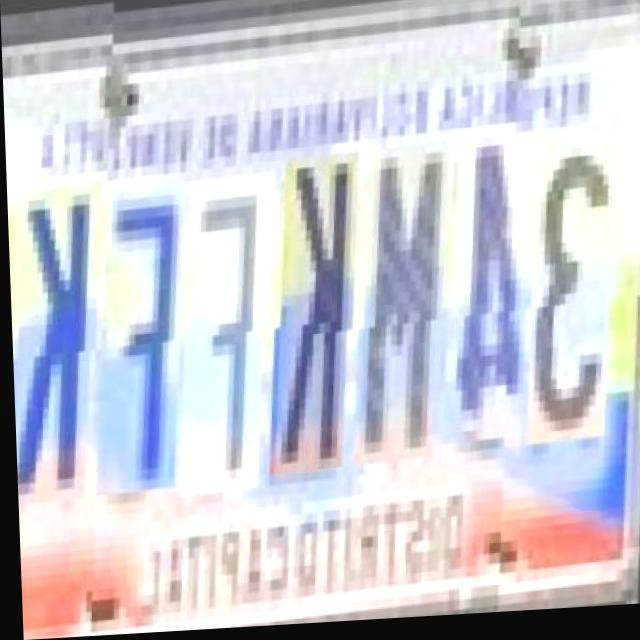3: (522, 128, 626, 439)
4: (438, 124, 543, 447)
f: (175, 170, 280, 493), (90, 178, 195, 489)
k: (263, 151, 364, 474), (6, 186, 106, 507)
m: (347, 143, 453, 466)
